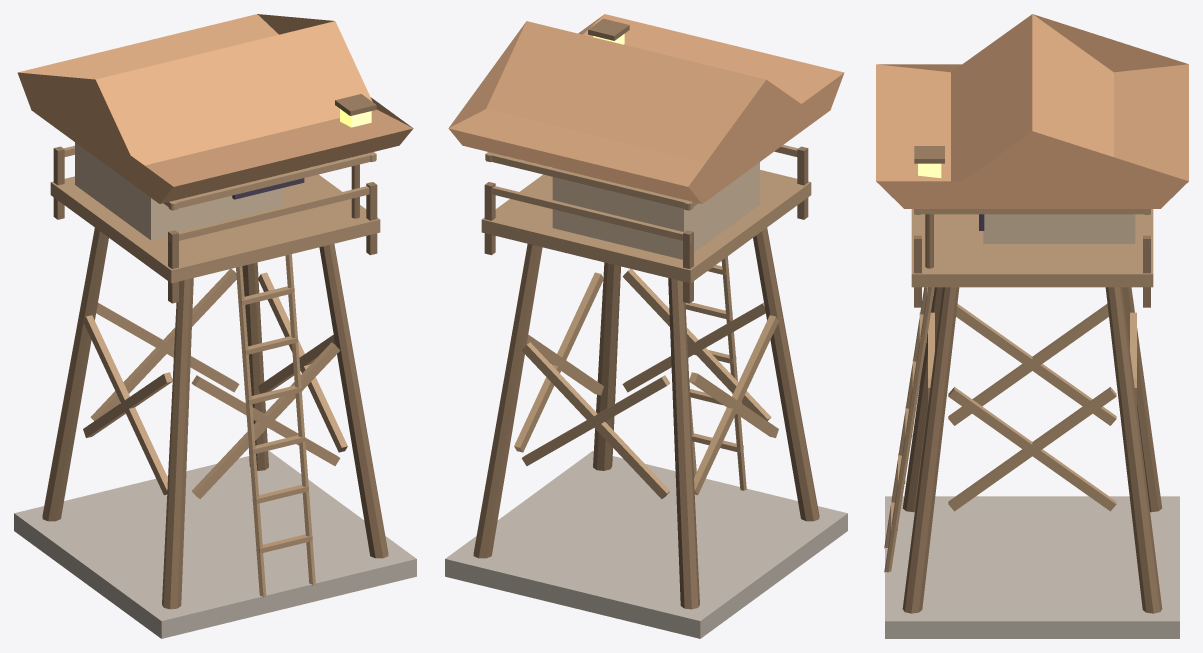
Rendered from watchtower.glb.
The picture shows the model from 3 angles, left to right: view 1: azimuth 30°, elevation 25°; view 2: azimuth 150°, elevation 25°; view 3: azimuth 270°, elevation 25°; orthographic projection.
Parts seen in each view (by area): view 1: roof, base, deck, hut, leg_-1_1, leg_1_1, leg_-1_-1, ladder_rail_-1, brace_f_1, leg_1_-1, ladder_rail_1, brace_s_-1 (+12 smaller); view 2: roof, base, deck, hut, leg_-1_-1, leg_1_-1, leg_-1_1, leg_1_1, brace_f_-1, brace_s2_-1, brace_s2_1, brace_f_1 (+11 smaller); view 3: roof, base, deck, leg_1_1, leg_1_-1, hut, brace_s_1, brace_s2_1, brace_s_-1, brace_s2_-1, leg_-1_-1, ladder_rail_1 (+7 smaller).
Boxes of the visible parts, x1,y1,x2,y2 form: roof: (17, 14, 413, 203); base: (14, 451, 416, 638); deck: (50, 174, 380, 283); hut: (75, 142, 282, 240); leg_-1_1: (162, 278, 193, 609); leg_1_1: (319, 244, 388, 558); leg_-1_-1: (42, 228, 108, 521); ladder_rail_-1: (236, 266, 266, 597); brace_f_1: (192, 342, 340, 499); leg_1_-1: (242, 262, 268, 470); ladder_rail_1: (285, 254, 315, 585); brace_s_-1: (83, 315, 167, 495); roof: (448, 14, 844, 203); base: (445, 451, 847, 638); deck: (481, 170, 811, 283); hut: (552, 162, 759, 259); leg_-1_-1: (668, 278, 699, 609); leg_1_-1: (473, 244, 542, 558); leg_-1_1: (753, 228, 819, 521); leg_1_1: (593, 262, 620, 470); brace_f_-1: (521, 342, 669, 499); brace_s2_-1: (694, 315, 778, 495); brace_s2_1: (514, 272, 603, 452); brace_f_1: (622, 269, 771, 420); roof: (876, 14, 1188, 208); base: (885, 496, 1179, 638); deck: (911, 209, 1153, 287); leg_1_1: (902, 287, 959, 613); leg_1_-1: (1105, 287, 1162, 613); hut: (983, 214, 1135, 243); brace_s_1: (948, 387, 1116, 511); brace_s2_1: (948, 387, 1116, 511); brace_s_-1: (948, 303, 1108, 425); brace_s2_-1: (956, 303, 1116, 425); leg_-1_-1: (1122, 287, 1162, 512); ladder_rail_1: (884, 287, 934, 572).
Bounding box in the file's own units: 3.34 × 6.3 × 3.55.
